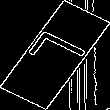L_SE: (19, 29, 91, 81)
